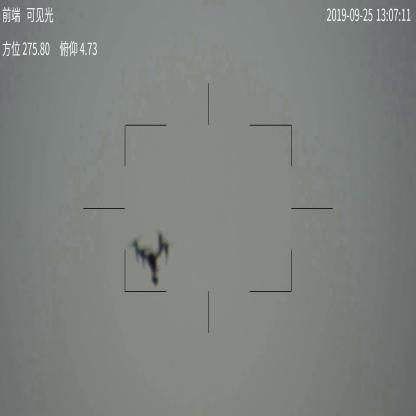uav: (126, 230, 172, 286)
